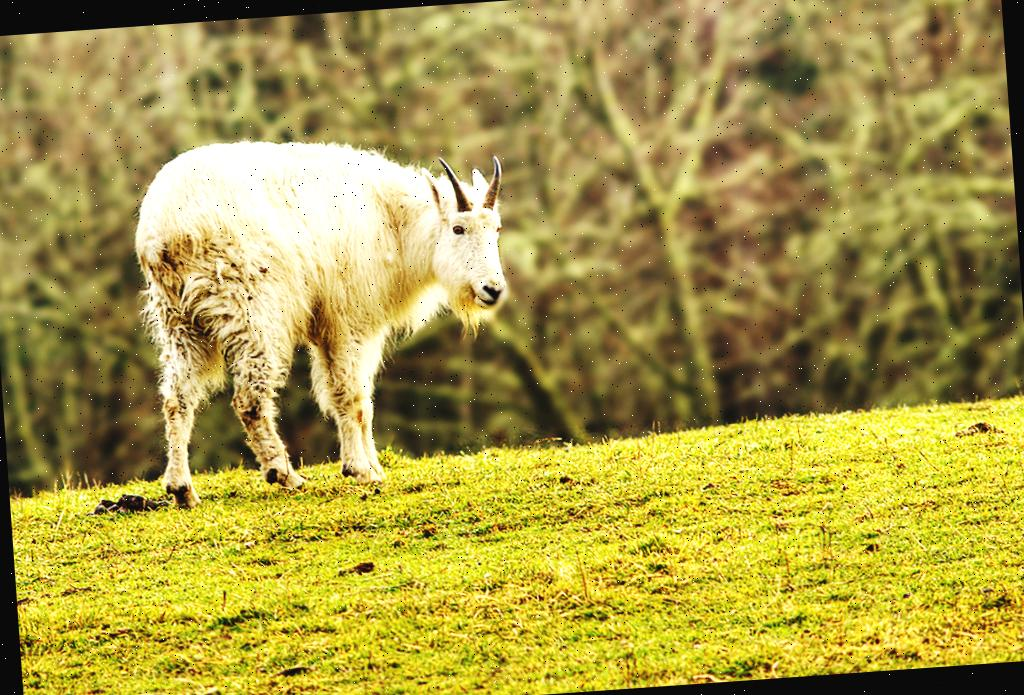Sheep: (129, 120, 528, 510)
